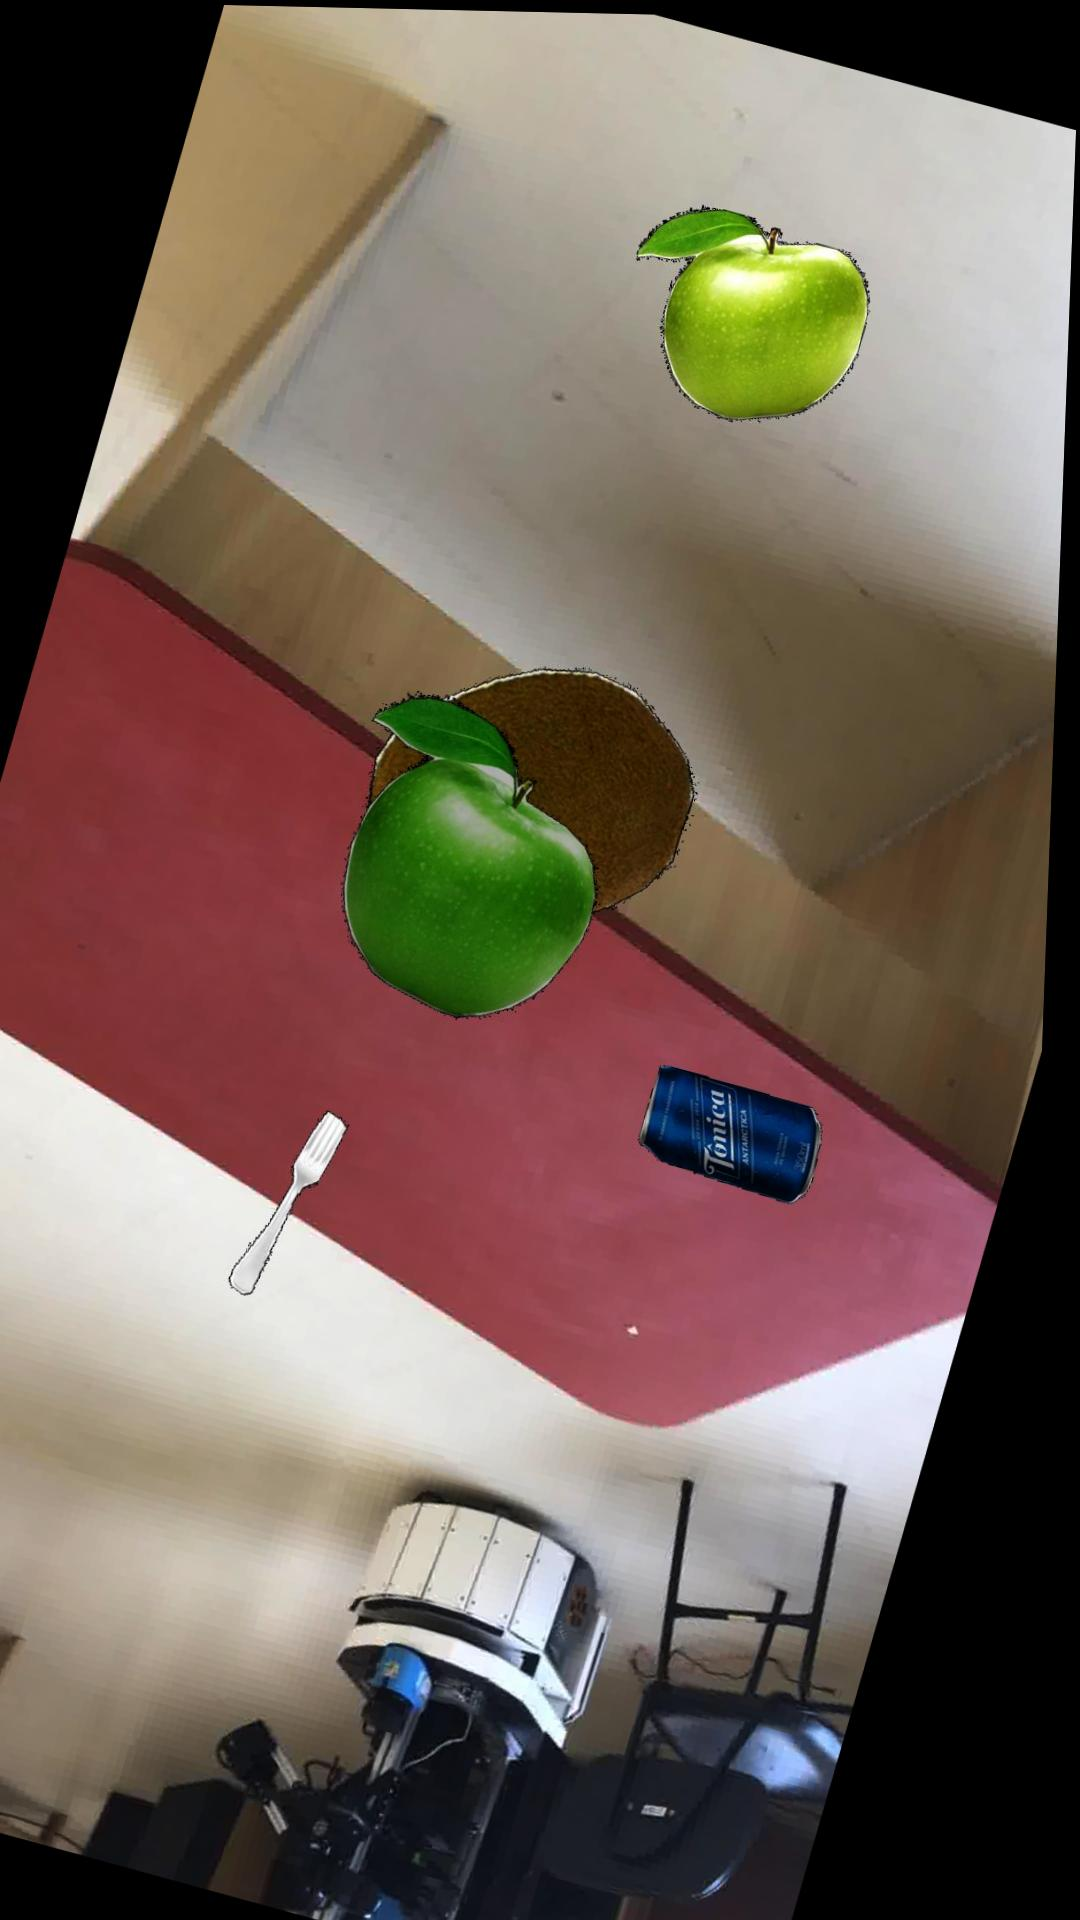fork: (239, 1109, 359, 1295)
green apple: (349, 691, 605, 1018), (638, 202, 872, 418)
kiwi: (372, 666, 702, 910)
tonic: (647, 1063, 831, 1200)
